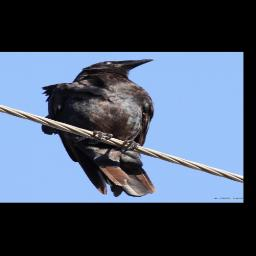Crow: (40, 57, 159, 197)
